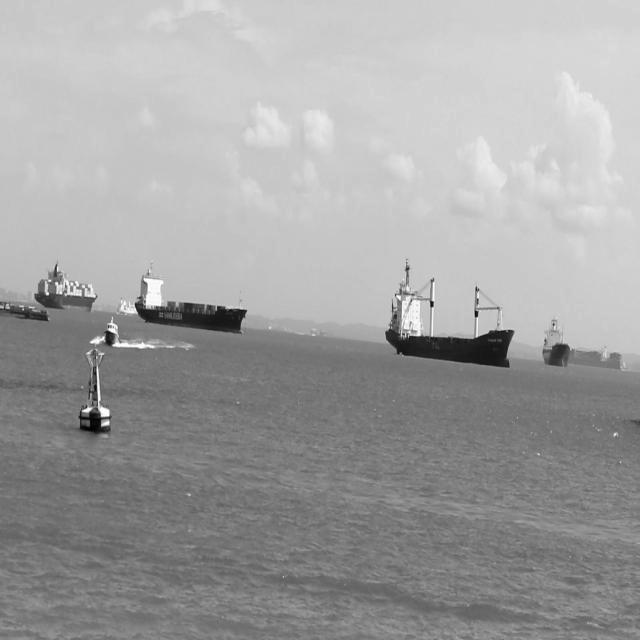buoy: (78, 344, 112, 434)
ship: (385, 256, 516, 370), (134, 262, 248, 334), (33, 258, 97, 312), (542, 314, 570, 368), (569, 347, 624, 372), (0, 299, 49, 322), (103, 316, 120, 344), (116, 296, 137, 316)
